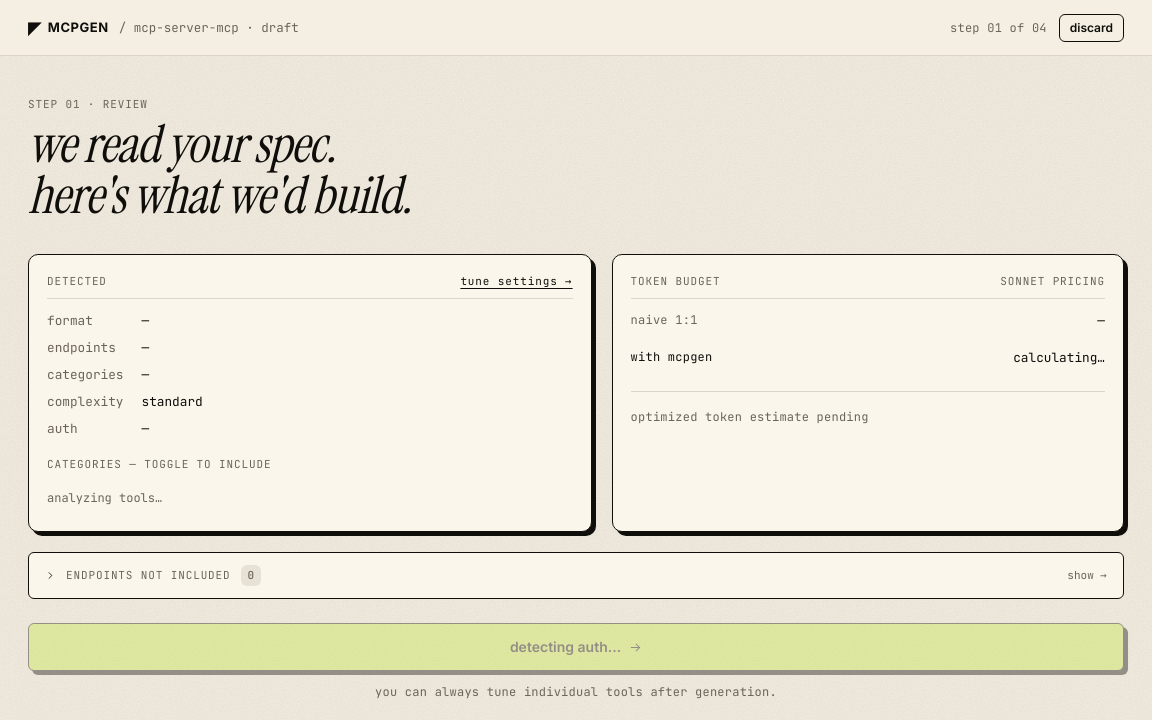
Test: <Preview> › opens generation settings modal when "tune settings" clicked
Click the button "tune settings →" at (516, 281), box [460,273,573,290]
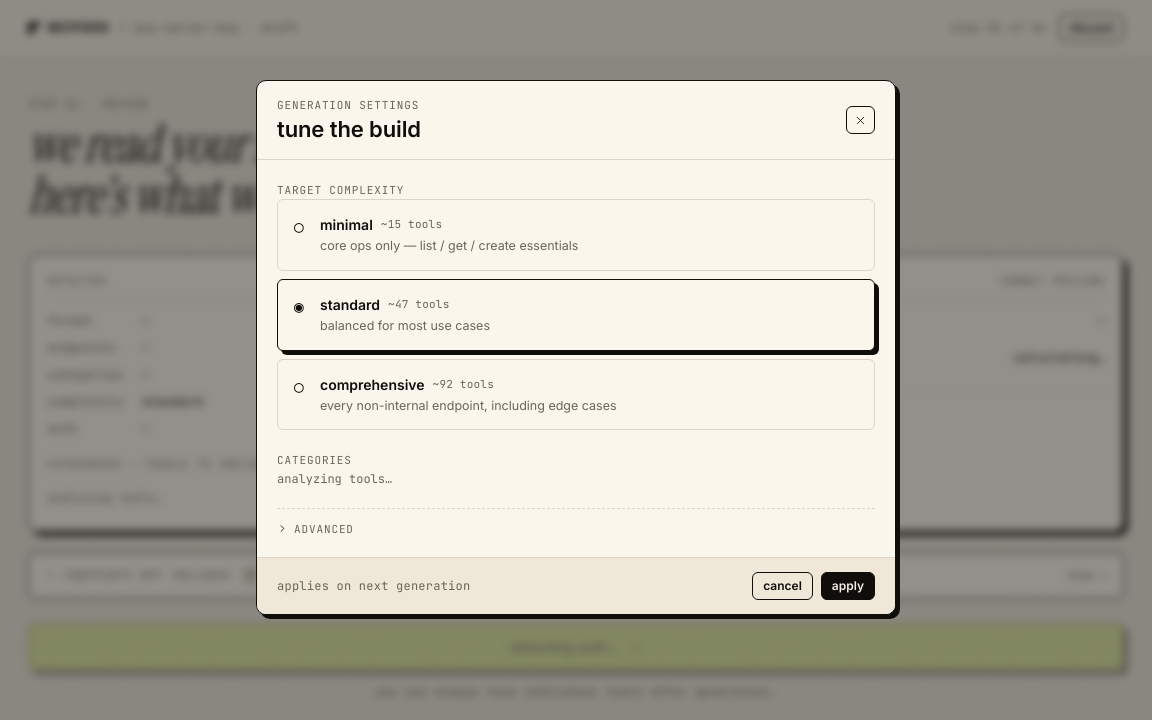
expect the text "target complexity" is shown: met, box [277,183,404,197]
